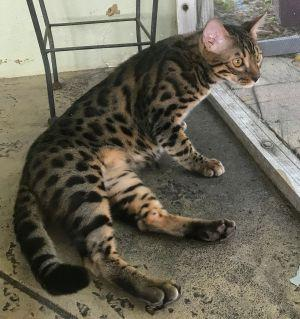bengal: (197, 2, 272, 97)
